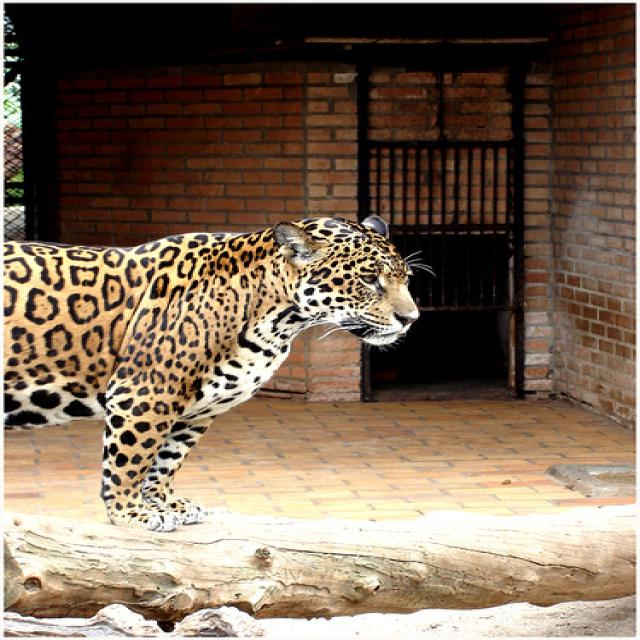Leopard: (2, 213, 437, 536)
